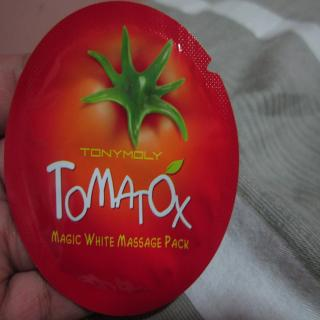tomato: (26, 25, 220, 286)
